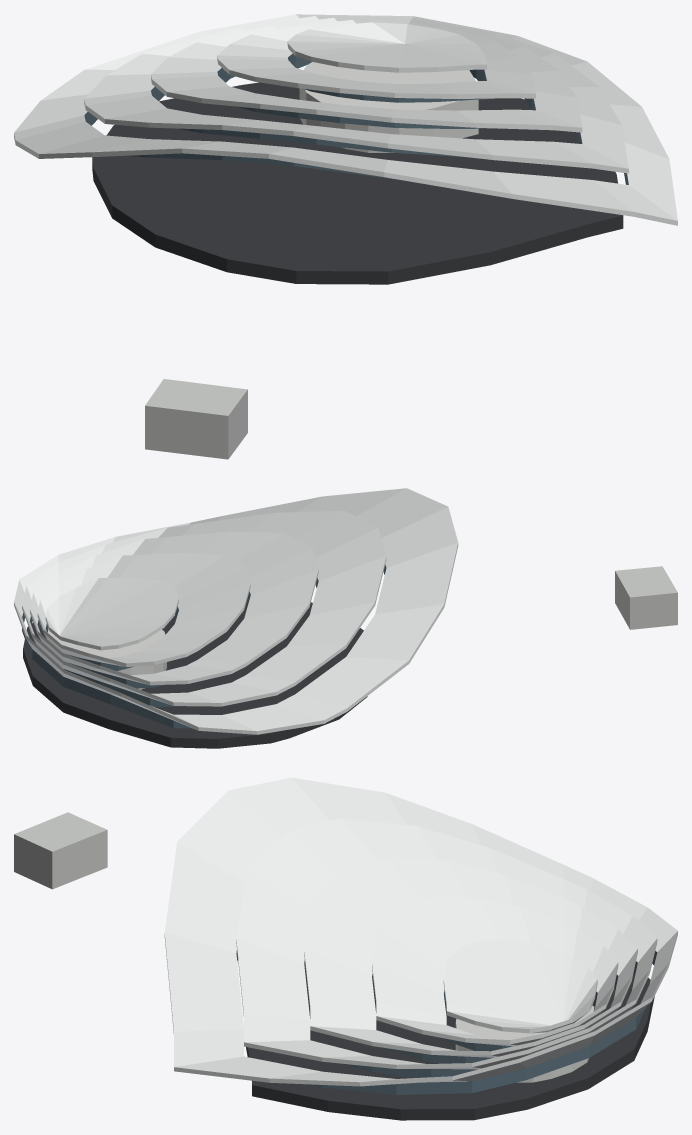
Rendered from fulfillment.glb.
3 renders of one model, top to bottom at view 1: azimuth 30°, elevation 25°; view 2: azimuth 150°, elevation 25°; view 3: azimuth 270°, elevation 25°, orthographic. The views are drawn at different scales.
Visible parts, largest first — view 1: fulfillment; view 2: fulfillment; view 3: fulfillment.
Boxes of the visible parts, x1,y1,x2,y2 form: fulfillment: [14, 14, 677, 459]; fulfillment: [14, 488, 677, 748]; fulfillment: [14, 777, 677, 1120].
Size of the model in its own units: 63.9 by 16 by 63.9.
